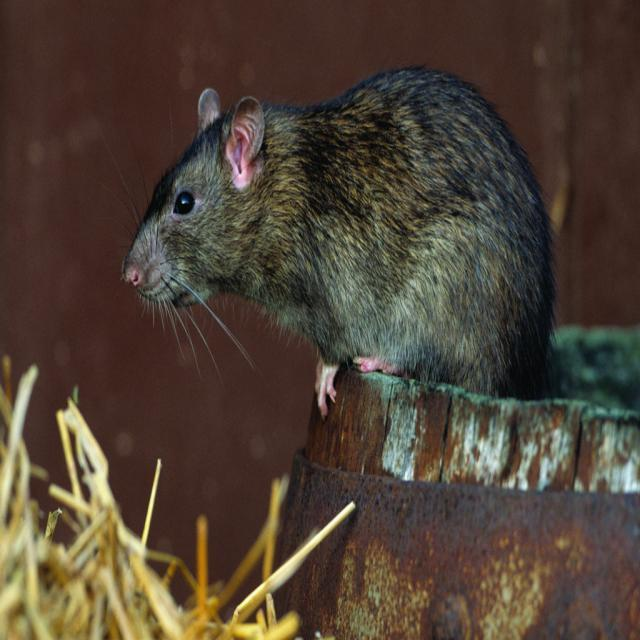rat: (121, 72, 551, 411)
